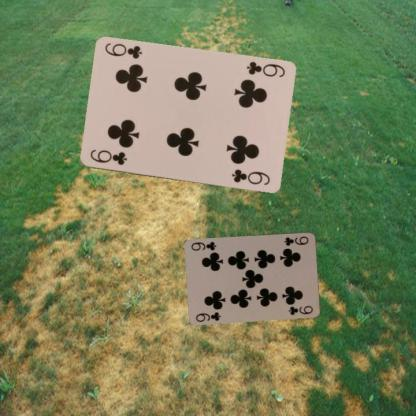6c: (243, 59, 286, 79), (88, 147, 128, 167)
9c: (281, 233, 310, 247), (193, 309, 222, 323)
